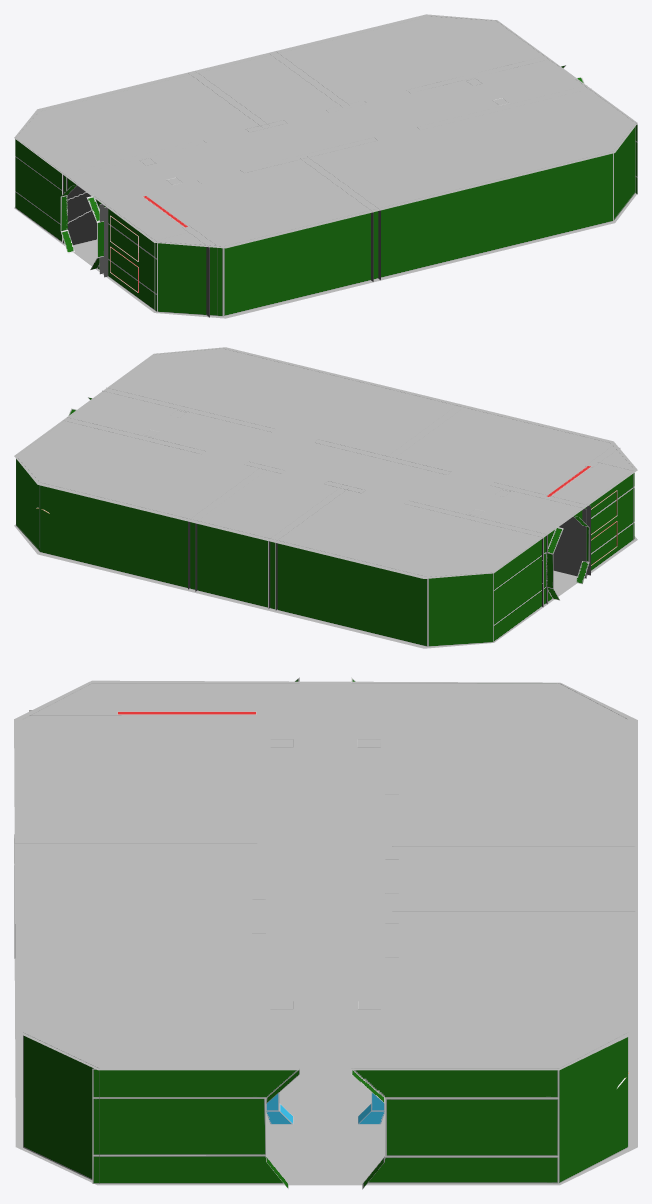
The model's file is TextureExp2.fbx.
3 views of the same model, one above another, from view 1: azimuth 30°, elevation 25°; view 2: azimuth 150°, elevation 25°; view 3: azimuth 270°, elevation 25° (orthographic). The views are drawn at different scales.
Parts seen in each view (by area): view 1: Roof, OuterWall1, OuterWall, HallwayWall3, HallwayWall1, Floor, OuterWall2, InnerWall9, InnerWall, InnerWall6; view 2: Roof, OuterWall4, OuterWall3, HallwayWall1, HallwayWall3, Floor, InnerWall, OuterWall5; view 3: Roof, HallwayWall2, HallwayWall4, Floor, OuterWall2, OuterWall5.
Boxes of the visible parts, x1,y1,x2,y2 form: Roof: (14, 14, 637, 248); OuterWall1: (223, 151, 613, 316); OuterWall: (157, 242, 223, 316); HallwayWall3: (86, 196, 156, 311); HallwayWall1: (15, 139, 76, 253); Floor: (14, 193, 636, 318); OuterWall2: (613, 126, 635, 220); InnerWall9: (62, 140, 204, 245); InnerWall: (99, 181, 198, 277); InnerWall6: (300, 156, 380, 281); Roof: (14, 347, 637, 578); OuterWall4: (40, 483, 427, 646); OuterWall3: (427, 572, 493, 646); HallwayWall1: (493, 526, 563, 641); HallwayWall3: (573, 470, 634, 584); Floor: (14, 524, 637, 648); InnerWall: (490, 482, 590, 578); OuterWall5: (16, 458, 39, 551); Roof: (14, 680, 637, 1070); HallwayWall2: (351, 1068, 558, 1189); HallwayWall4: (92, 1068, 299, 1189); Floor: (14, 834, 637, 1185); OuterWall2: (23, 1032, 99, 1183); OuterWall5: (558, 1033, 628, 1183).
Bounding box in the file's own units: 20.32 × 2.78 × 13.48.
